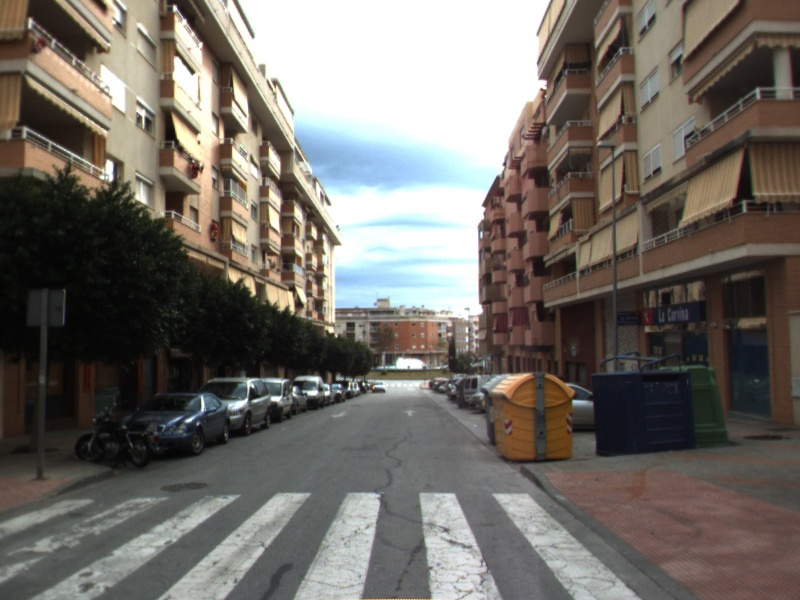STRAIGHT: (401, 408, 419, 418)
